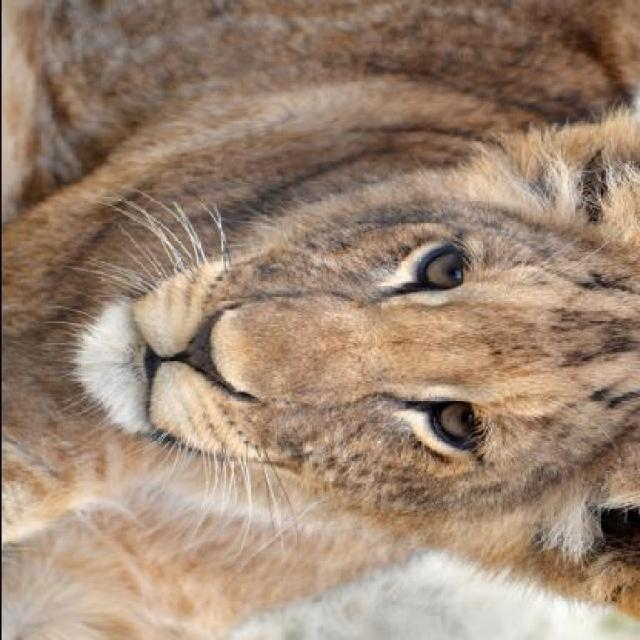Lion: (1, 14, 632, 628)
